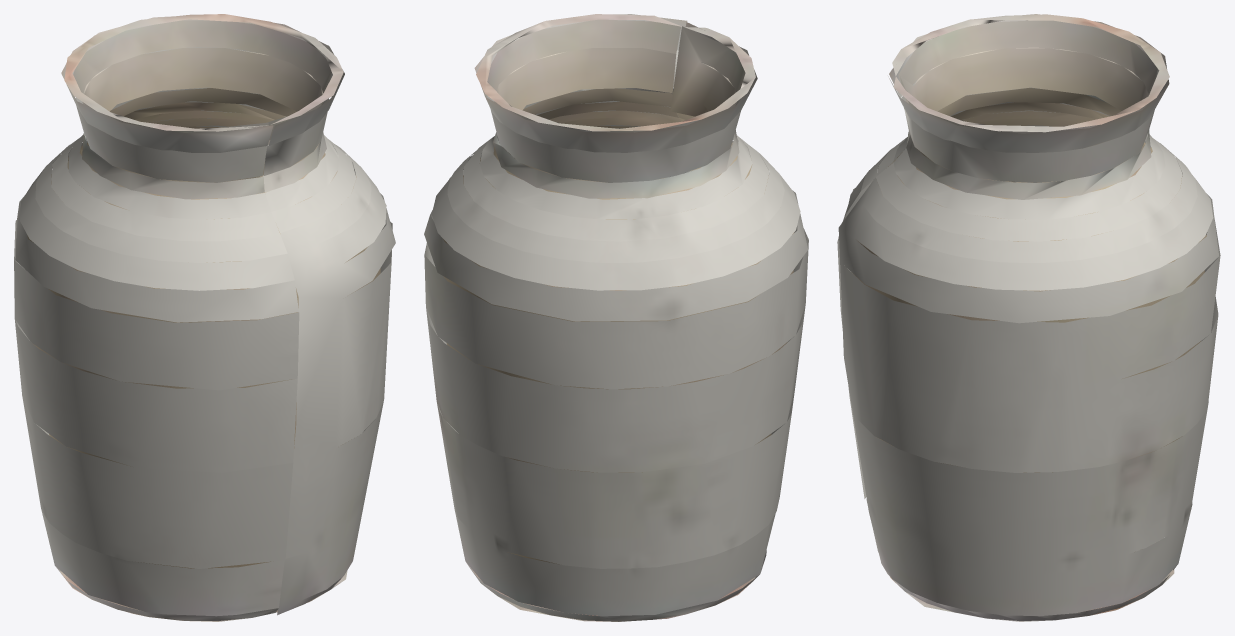
The model's file is vase-round-balanced-88f921c182.glb.
The picture shows the model from 3 angles, left to right: view 1: azimuth 30°, elevation 25°; view 2: azimuth 150°, elevation 25°; view 3: azimuth 270°, elevation 25°; orthographic projection.
Visible parts, largest first — view 1: ceramic_vase_02; view 2: ceramic_vase_02; view 3: ceramic_vase_02.
Part boxes in pixels (x1=…): ceramic_vase_02: x1=14, y1=14, x2=395, y2=621; ceramic_vase_02: x1=424, y1=14, x2=808, y2=621; ceramic_vase_02: x1=837, y1=14, x2=1220, y2=621.
Size of the model in its own units: 0.2184 by 0.3098 by 0.2184.
1 material, 1 textured.
